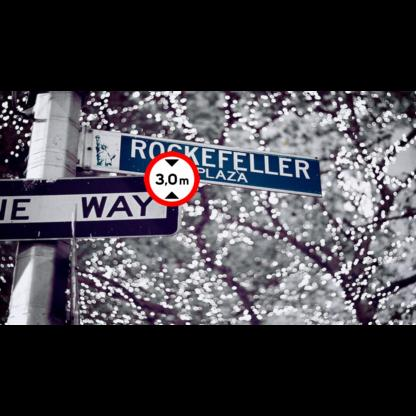R-15: (144, 151, 200, 206)
